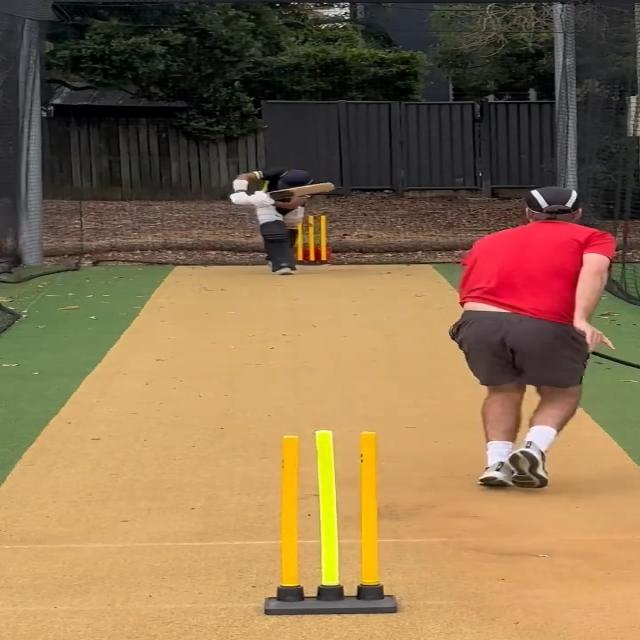stump: (269, 429, 393, 614), (297, 214, 327, 265)
